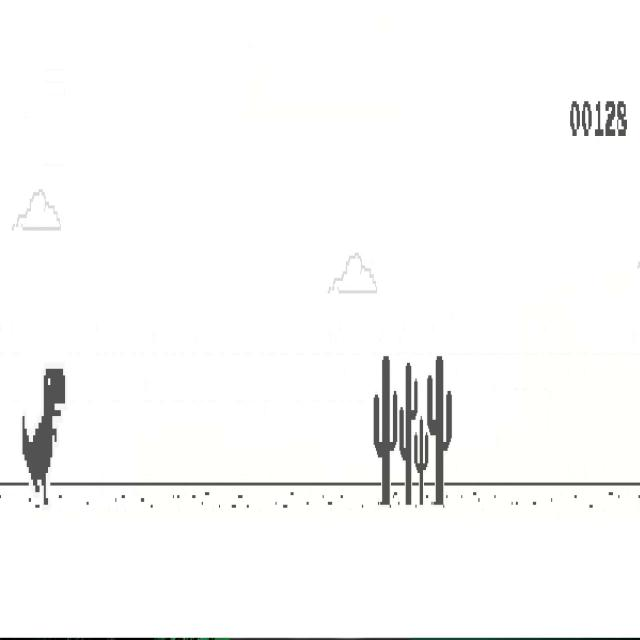cacto: (426, 355, 453, 506), (373, 354, 398, 506), (399, 361, 418, 507), (414, 416, 428, 506)
dino: (22, 368, 66, 506)
